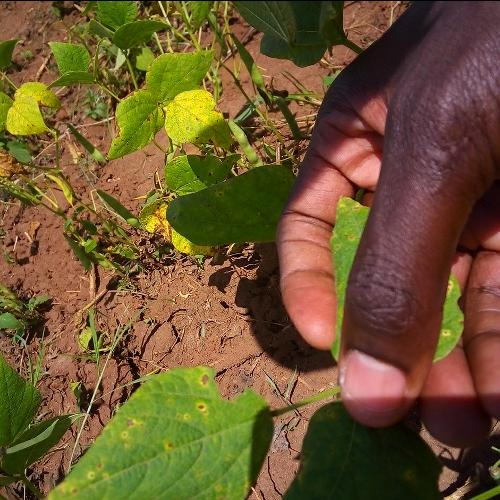hawar: (107, 399, 218, 465)
